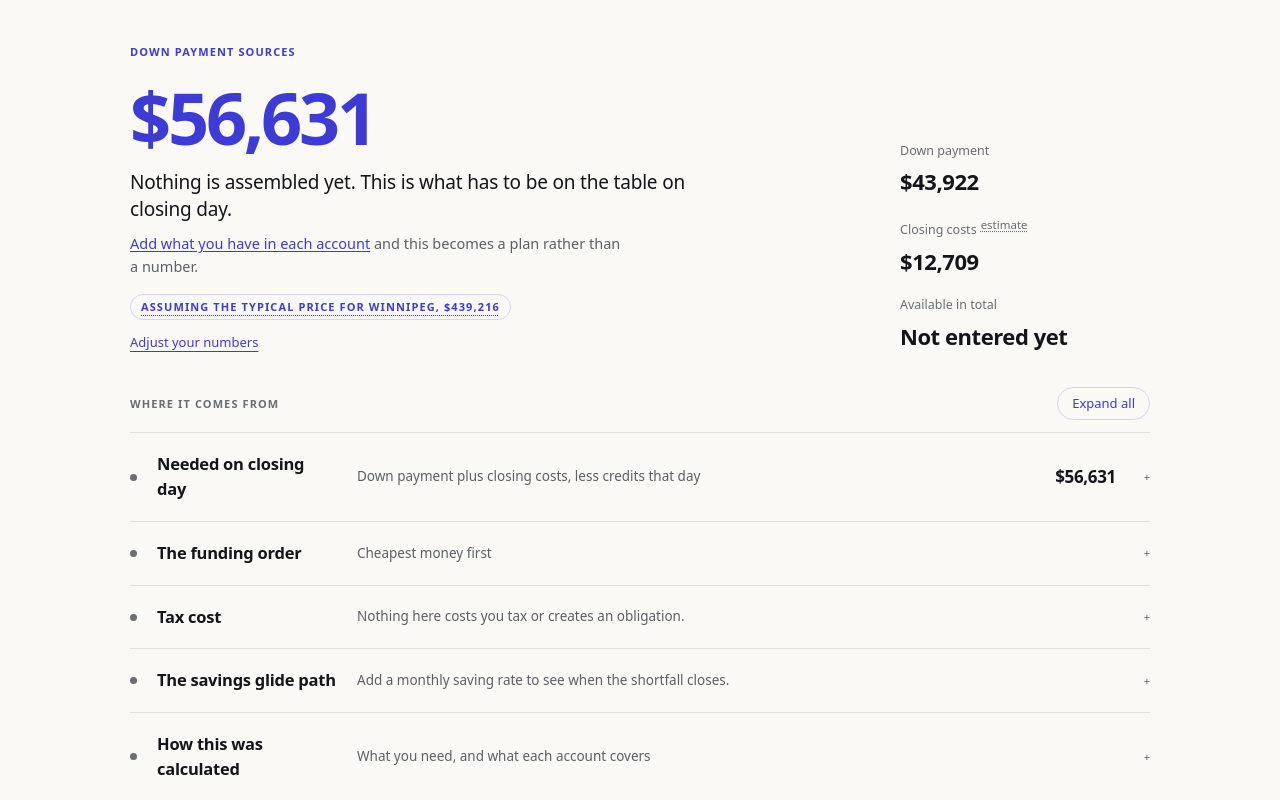
Down payment — the FHSA finally says what it is worth › quotes the annual and lifetime room the app has always held
Click the button "The funding order Cheapest money first +" at (229,552), box [130,522,1150,585]
(page scrolled)
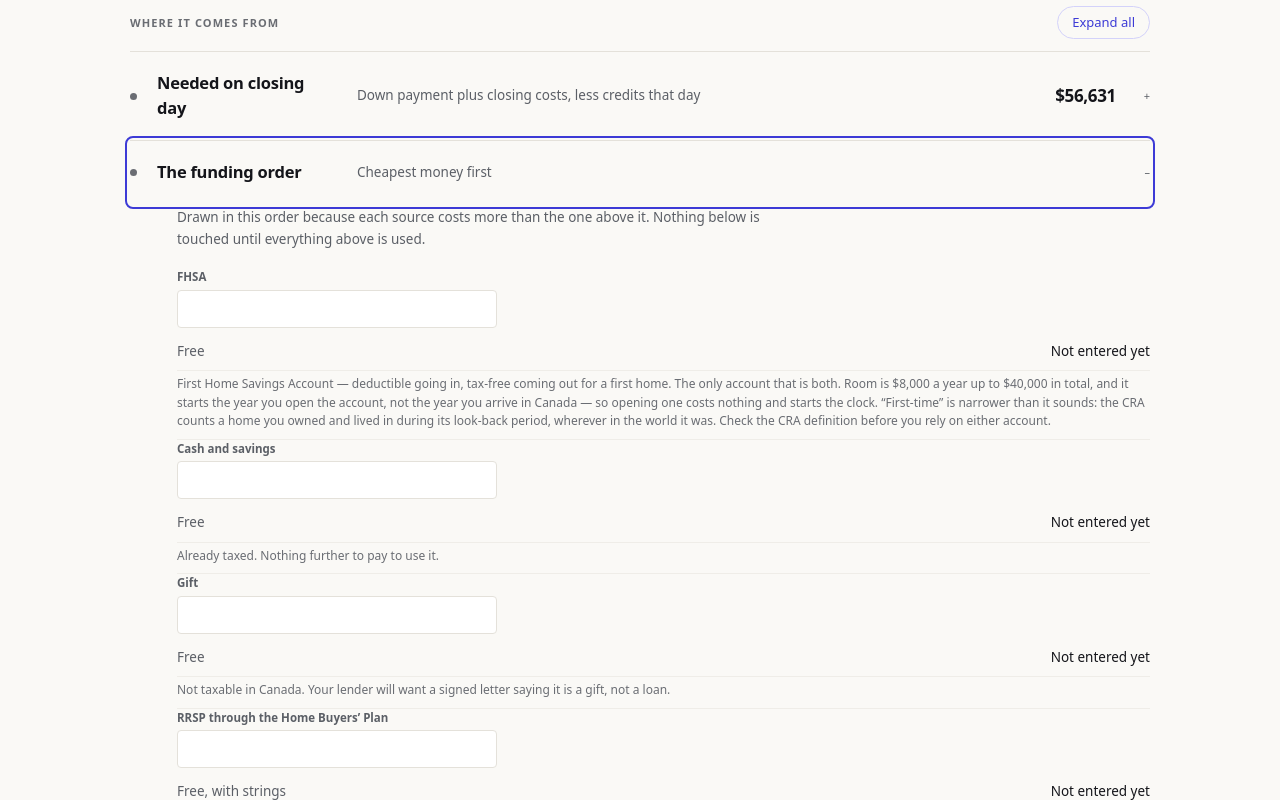
Expected: the text "First Home Savings Account" shows "$8,000", [177,375,1128,411]
Expected: the text "First Home Savings Account" shows "$40,000", [177,375,1128,411]
Expected: the text "First Home Savings Account" shows "open", [177,375,1128,411]
